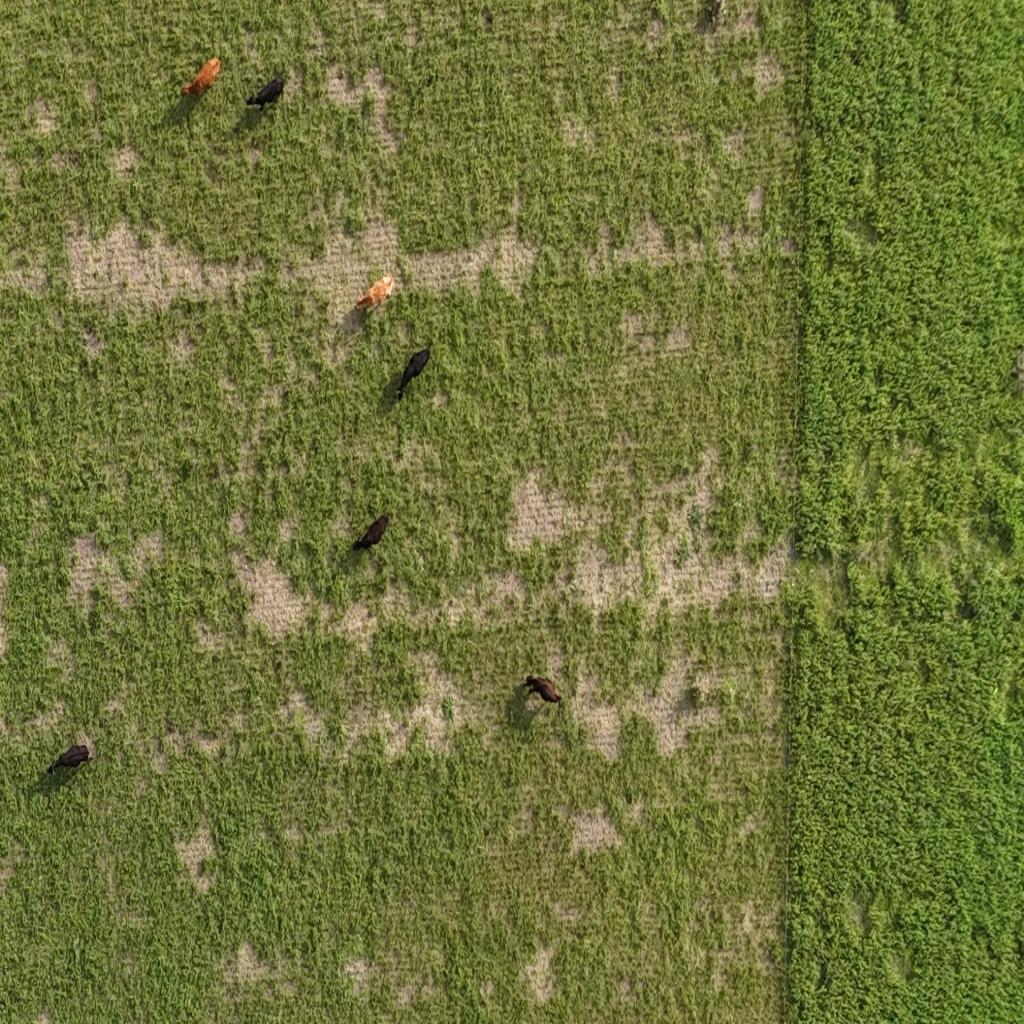cow: (42, 736, 96, 782), (393, 343, 431, 405), (518, 666, 565, 716), (178, 54, 222, 107), (354, 272, 396, 316), (350, 511, 388, 554), (244, 72, 284, 110), (692, 2, 722, 33)
